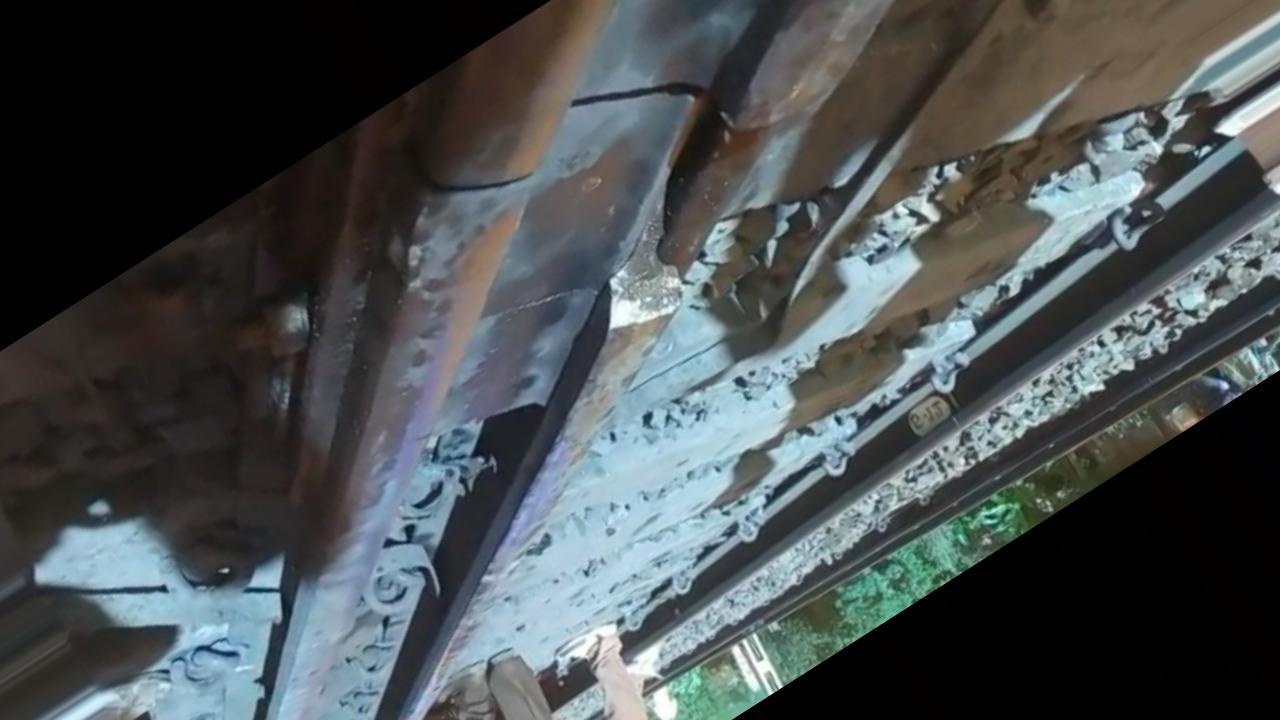tracks_fault: (609, 212, 710, 366)
